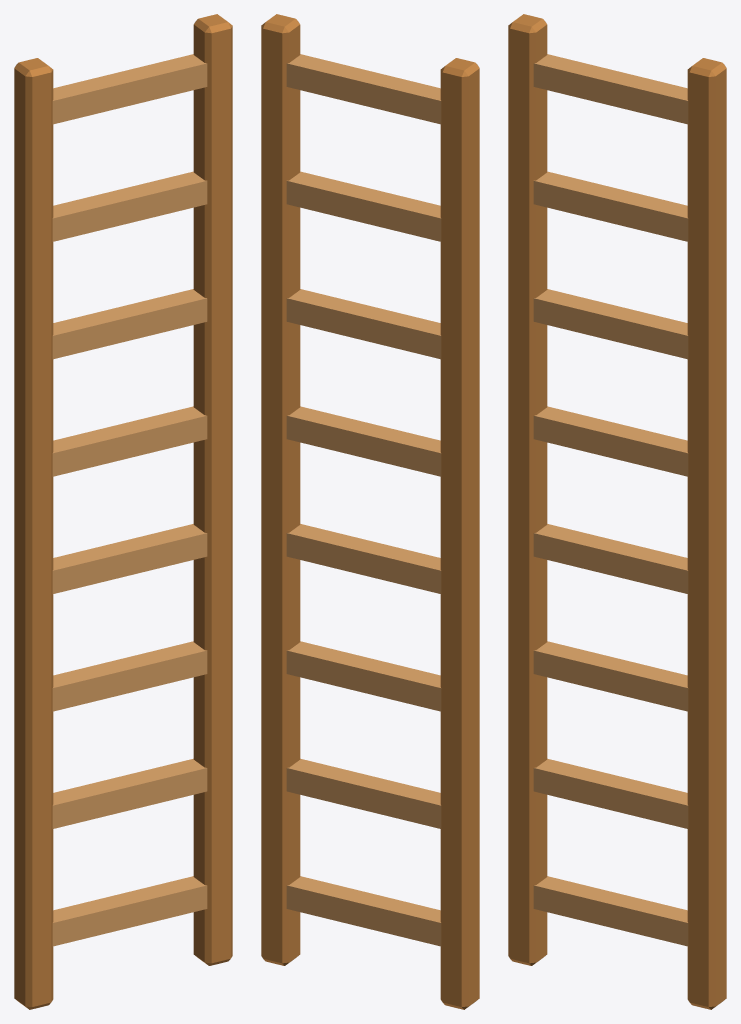
The model's file is Ladder.fbx.
The picture shows the model from 3 angles, left to right: view 1: azimuth 30°, elevation 25°; view 2: azimuth 150°, elevation 25°; view 3: azimuth 330°, elevation 25°; orthographic projection.
Parts seen in each view (by area): view 1: Ladder; view 2: Ladder; view 3: Ladder.
Boxes of the visible parts, x1,y1,x2,y2 form: Ladder: (14,14,232,1009); Ladder: (261,14,479,1009); Ladder: (508,14,726,1009).
Size of the model in its own units: 1.85 by 8 by 0.25.
1 material, 1 textured.
